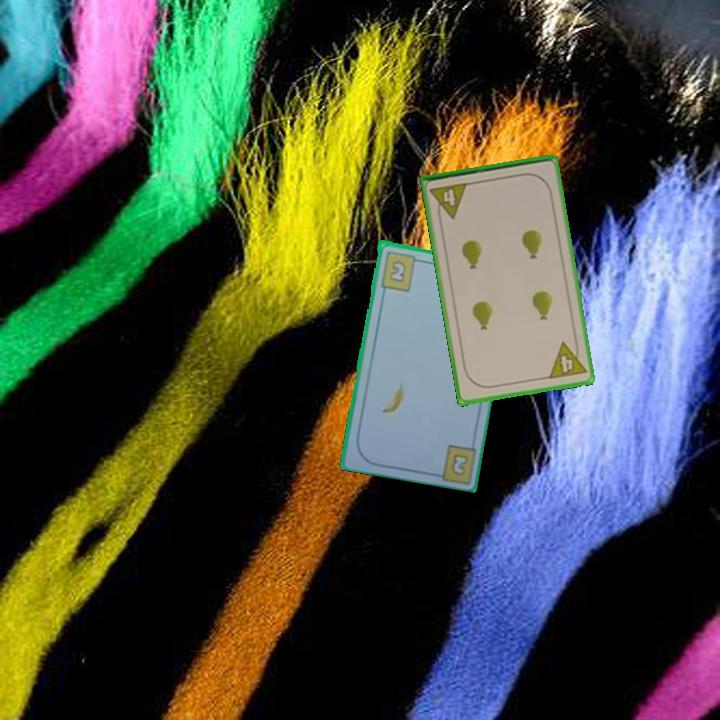2b: (377, 247, 424, 294), (448, 450, 471, 479)
4p: (545, 337, 589, 382), (427, 179, 471, 223)
